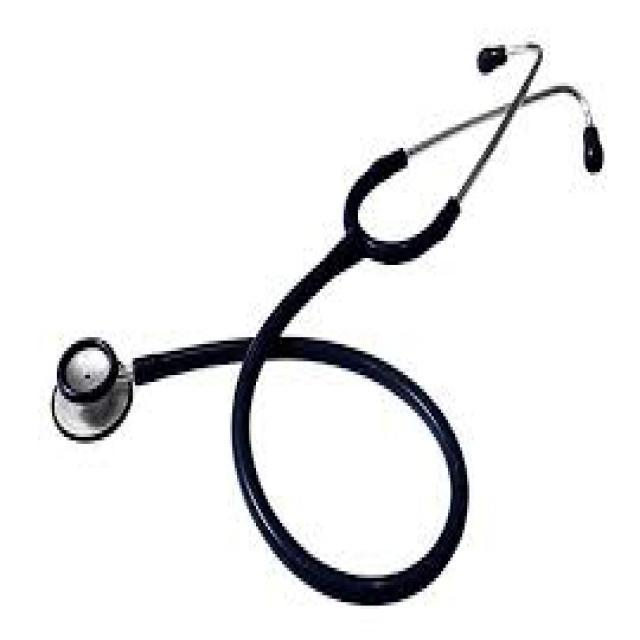stethoscope: (47, 16, 623, 640)
